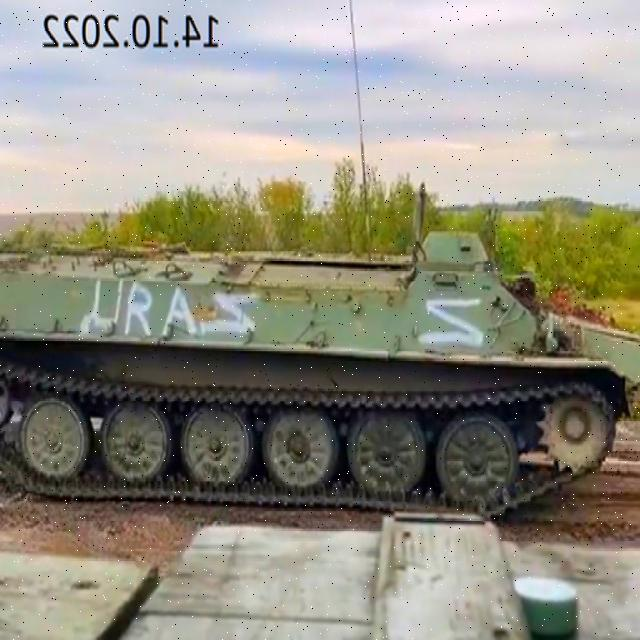APC-IFV: (2, 211, 632, 509)
